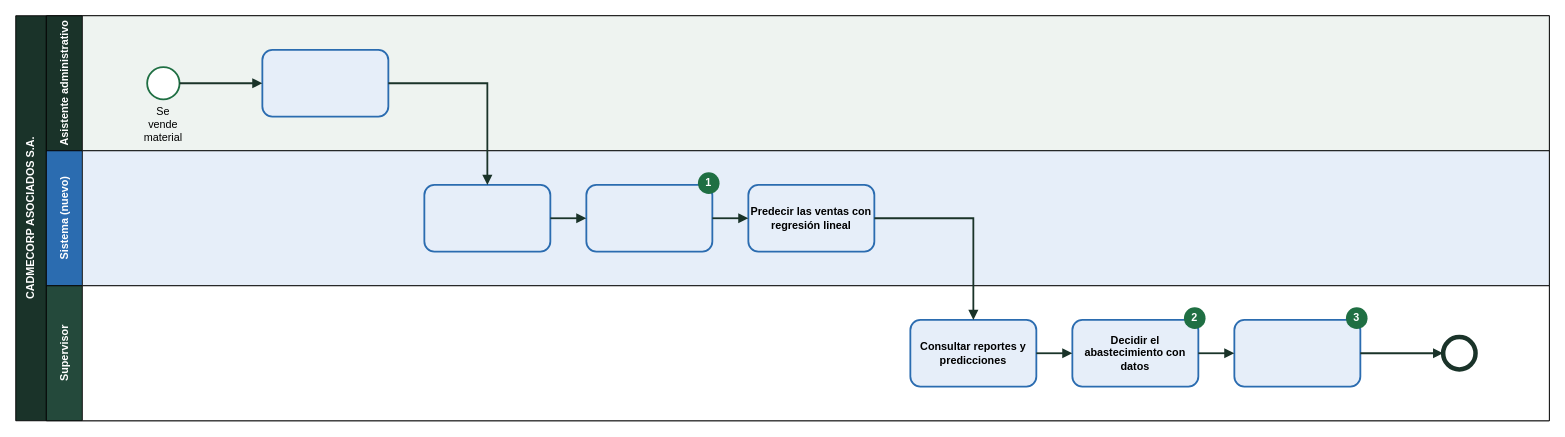
Some shapes in this 1565 by 437 pixel diagram are drawn without their labels. The centre of each missing label's shape, as x and y in pixels:
"Abastecimiento definido" belongs at [1458,352].
"Generar los reportes de ventas automáticamente" belongs at [649,218].
"Guardar la venta en el Datamart" belongs at [487,218].
"Planificar promociones con la predicción" belongs at [1297,353].
"Registrar la venta en la aplicación web" belongs at [325,83].
